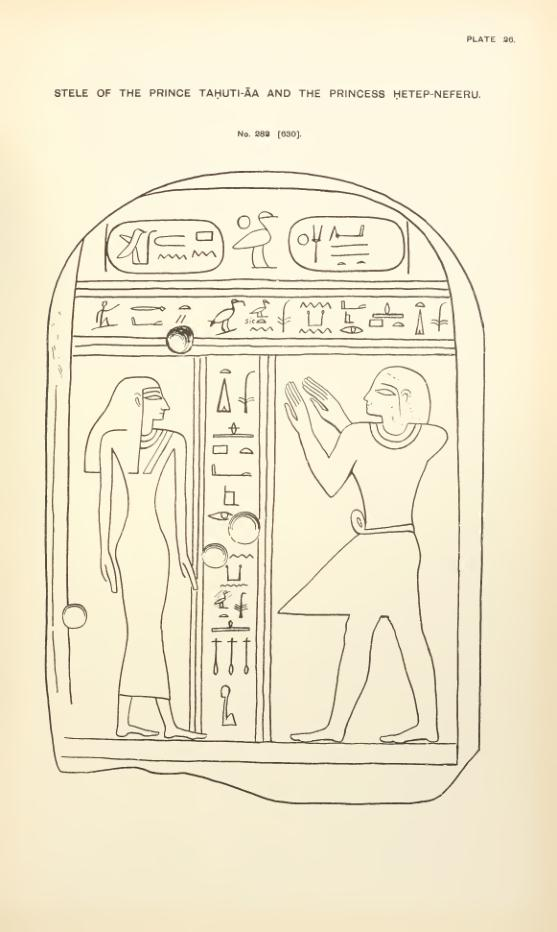circle: (286, 209, 425, 277), (101, 214, 232, 275)
